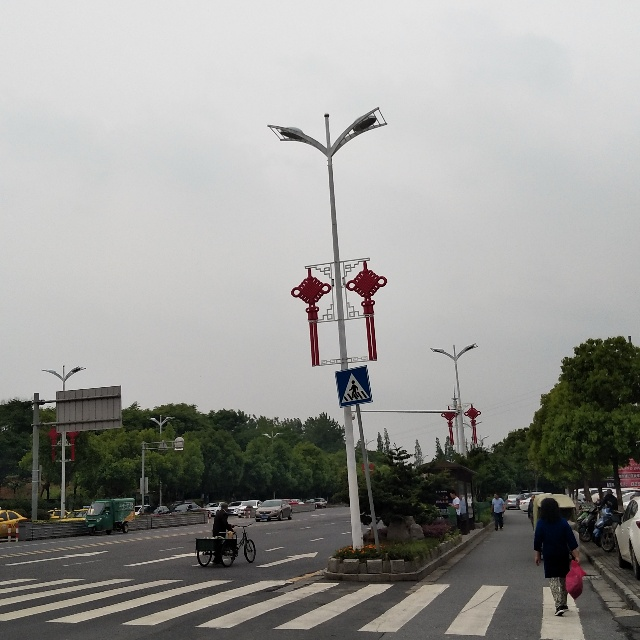crosswalk: (336, 369, 370, 403)
